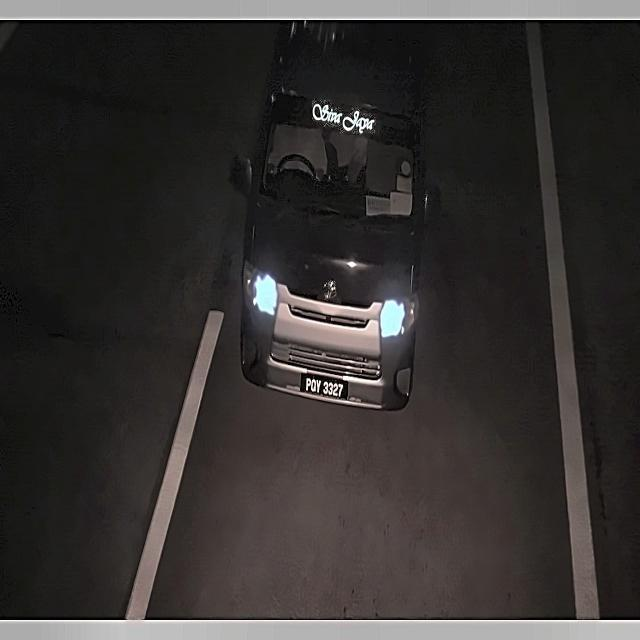car: (300, 364, 353, 411)
